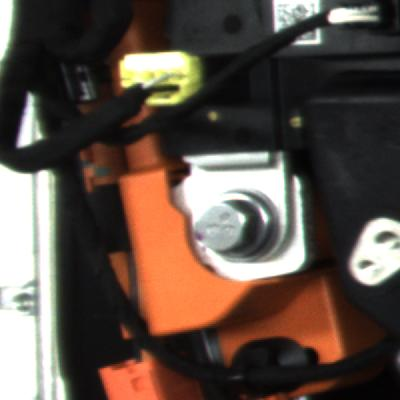nut_b: (183, 182, 286, 272)
